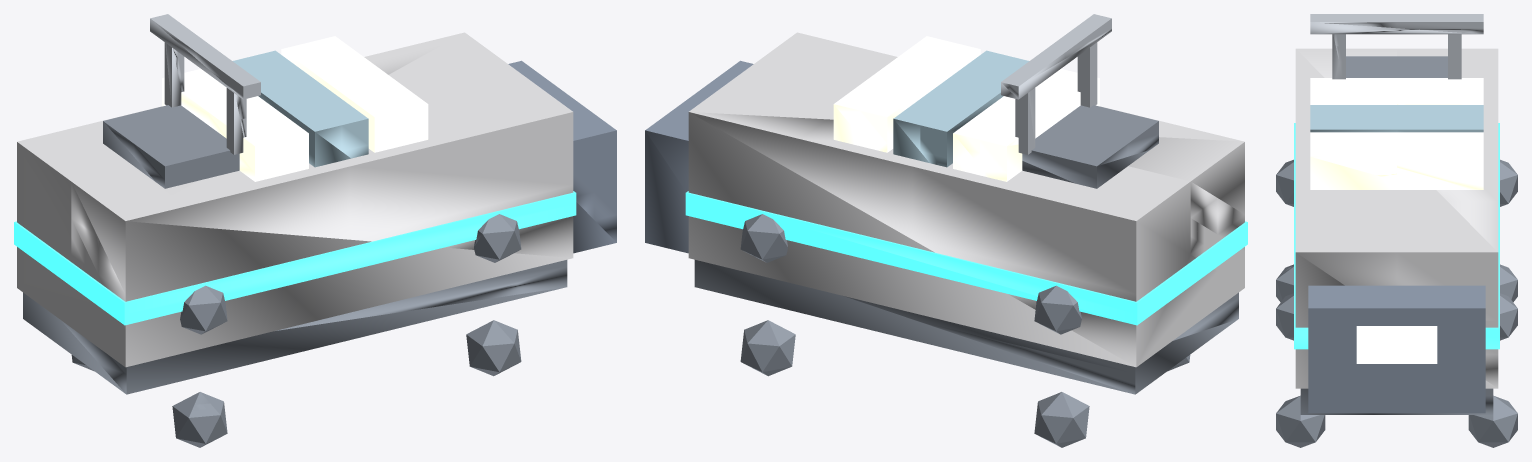
The model's file is loco.glb.
3 views of the same model, side by side, from view 1: azimuth 30°, elevation 25°; view 2: azimuth 150°, elevation 25°; view 3: azimuth 270°, elevation 25° (orthographic). The views are drawn at different scales.
Visible parts, largest first — view 1: MetroLoco; view 2: MetroLoco; view 3: MetroLoco.
Part boxes in pixels (x1,y1,x2,y2): MetroLoco: [14, 14, 616, 447]; MetroLoco: [645, 14, 1247, 447]; MetroLoco: [1276, 14, 1517, 447].
Bounding box in the file's own units: 2.83 × 1.85 × 1.26.
